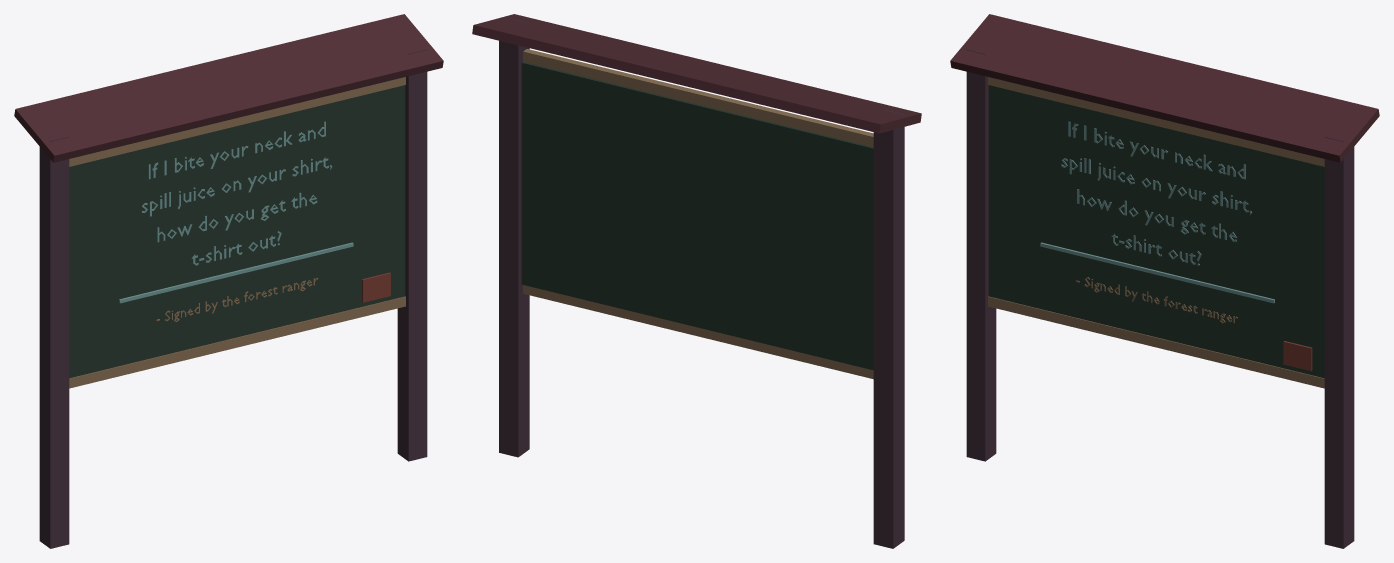
The model's file is panou_ocol_pg.glb.
3 views of the same model, side by side, from view 1: azimuth 30°, elevation 25°; view 2: azimuth 150°, elevation 25°; view 3: azimuth 330°, elevation 25° (orthographic). The views are drawn at different scales.
Parts seen in each view (by area): view 1: PanouOcol; view 2: PanouOcol; view 3: PanouOcol.
Part boxes in pixels (x1=…): PanouOcol: x1=14, y1=14, x2=443, y2=548; PanouOcol: x1=472, y1=14, x2=921, y2=548; PanouOcol: x1=950, y1=14, x2=1379, y2=548.
Size of the model in its own units: 2.5 by 2.58 by 0.4484.
